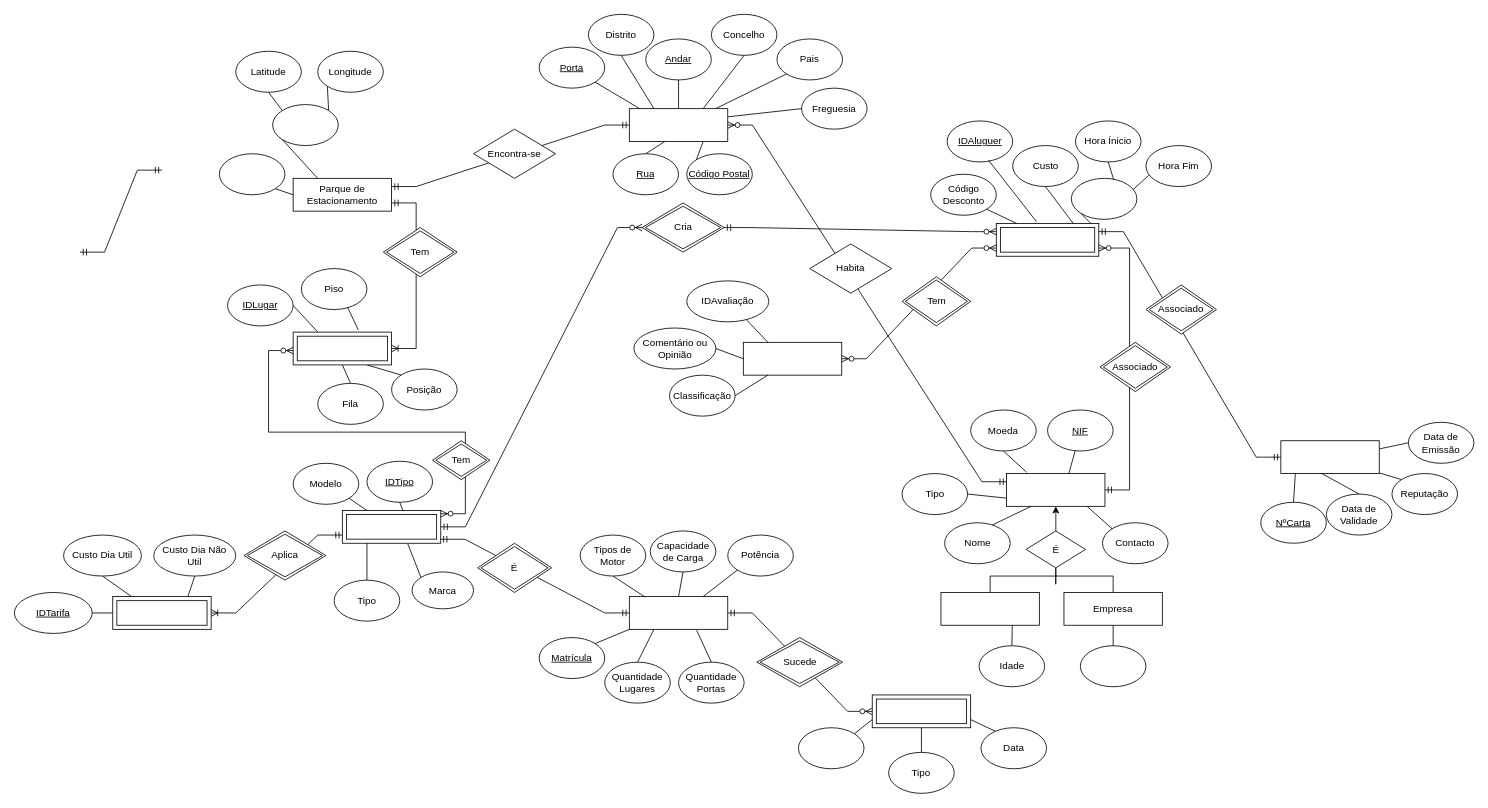
The diagram is 1488 pixels wide and 808 high, and some of its shapes have lost their labels. The shapes that lost their labels are listed below. From the top down, each one's centre as x and y in pixels, then its label:
the point at 305,125: Coordenadas Geográficas
the point at 678,124: Morada
the point at 252,174: Localidade
the point at 1104,198: Duração
the point at 1047,239: Aluguer
the point at 342,348: Lugar
the point at 792,358: Avaliação
the point at 1329,457: Condutor
the point at 1055,489: Cliente
the point at 391,526: Tipo de Veículo
the point at 161,612: Tarifa
the point at 678,612: Veículo
the point at 989,608: Pessoa
the point at 1113,666: Capital Social
the point at 921,711: Intervenção
the point at 831,748: IDIntervenção
